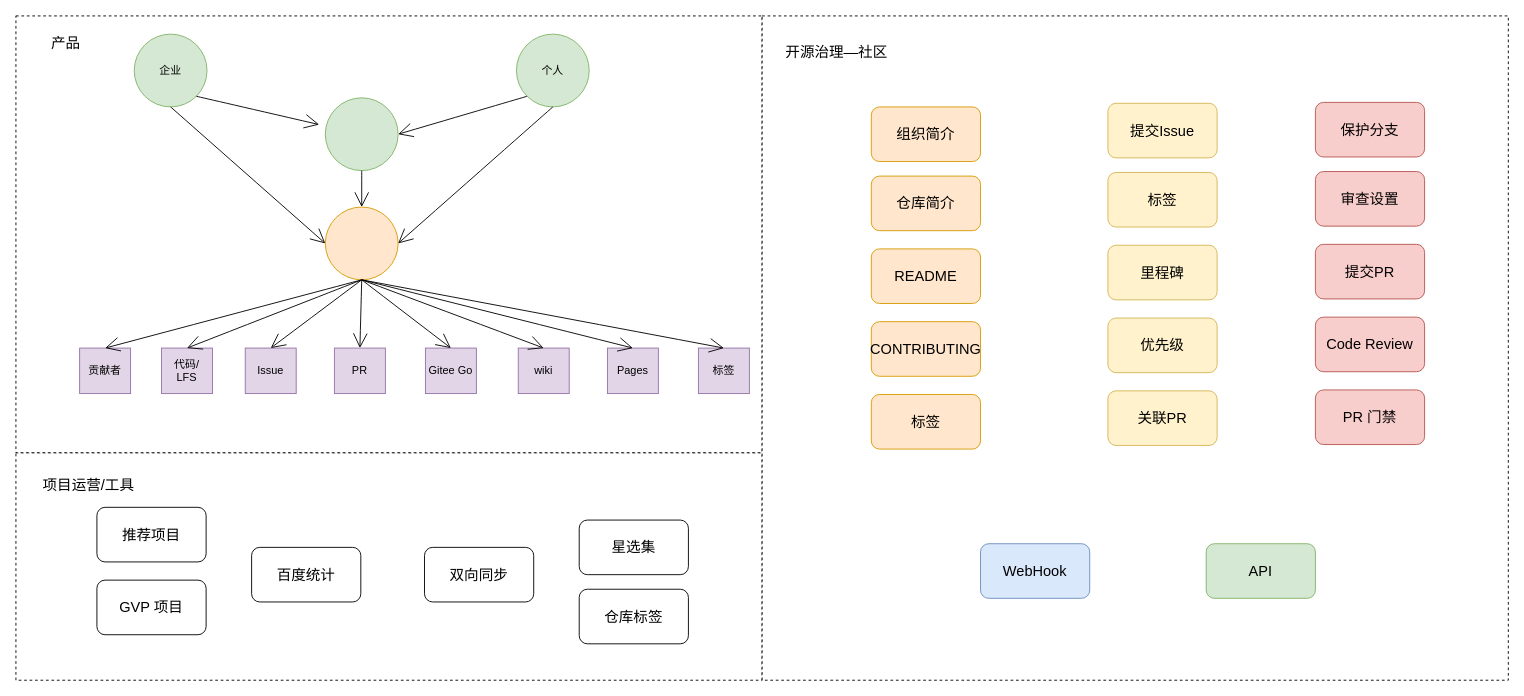
The diagram is 1524 pixels wide and 696 high, and some of its shapes have lost their labels. The shapes that lost their labels are listed below. From the top down, each one's centre as x and y in pixels, then its label:
At [361,134]: "组织 (团队)".
At [361,243]: "仓库".
